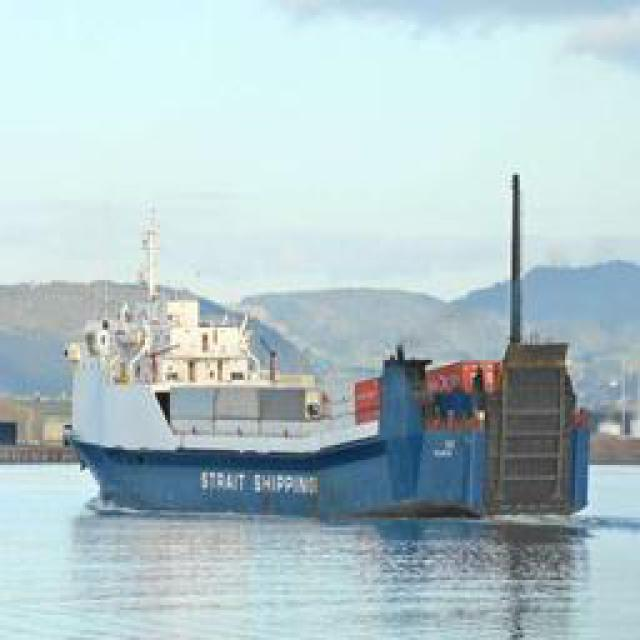Ship: (78, 298, 553, 516)
